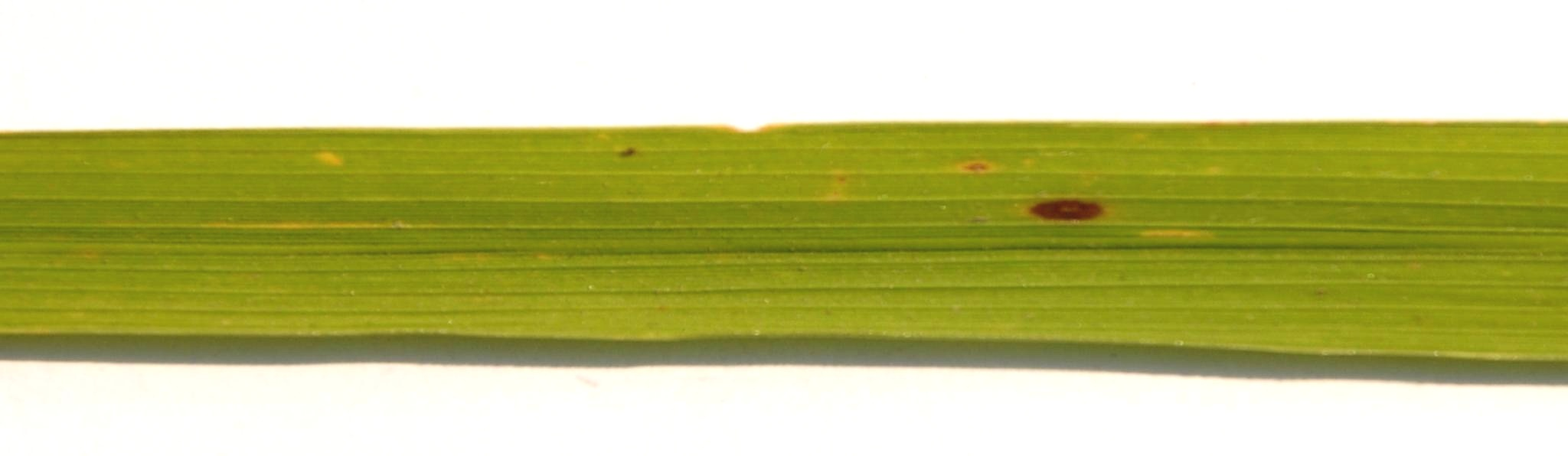Bacterial_Leaf_Blight: (1013, 169, 1135, 234)
